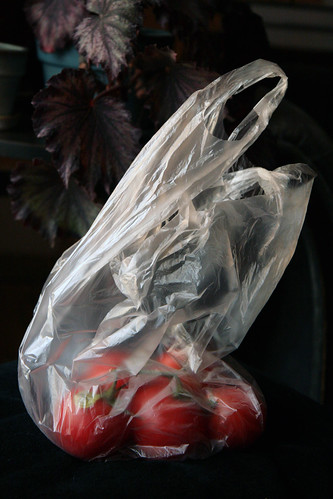plastic bag: (15, 58, 318, 462)
